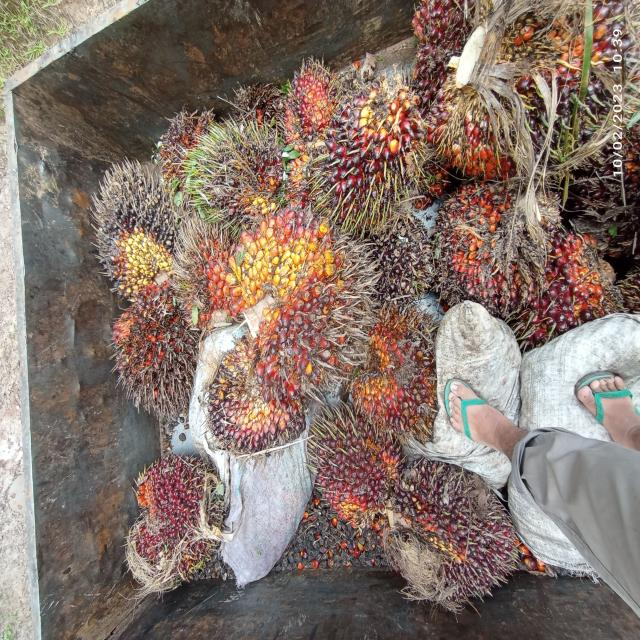fraksi 00: (72, 150, 181, 305), (432, 183, 557, 312), (199, 338, 306, 458), (178, 120, 305, 221), (345, 209, 441, 326)
fraksi 1: (288, 77, 434, 228), (394, 455, 531, 600), (517, 215, 622, 356), (310, 404, 400, 529)
fraksi 3: (203, 203, 377, 404), (114, 430, 233, 604), (333, 312, 462, 456), (256, 46, 344, 144)
fraksi 4: (110, 278, 198, 434), (182, 211, 238, 313)
